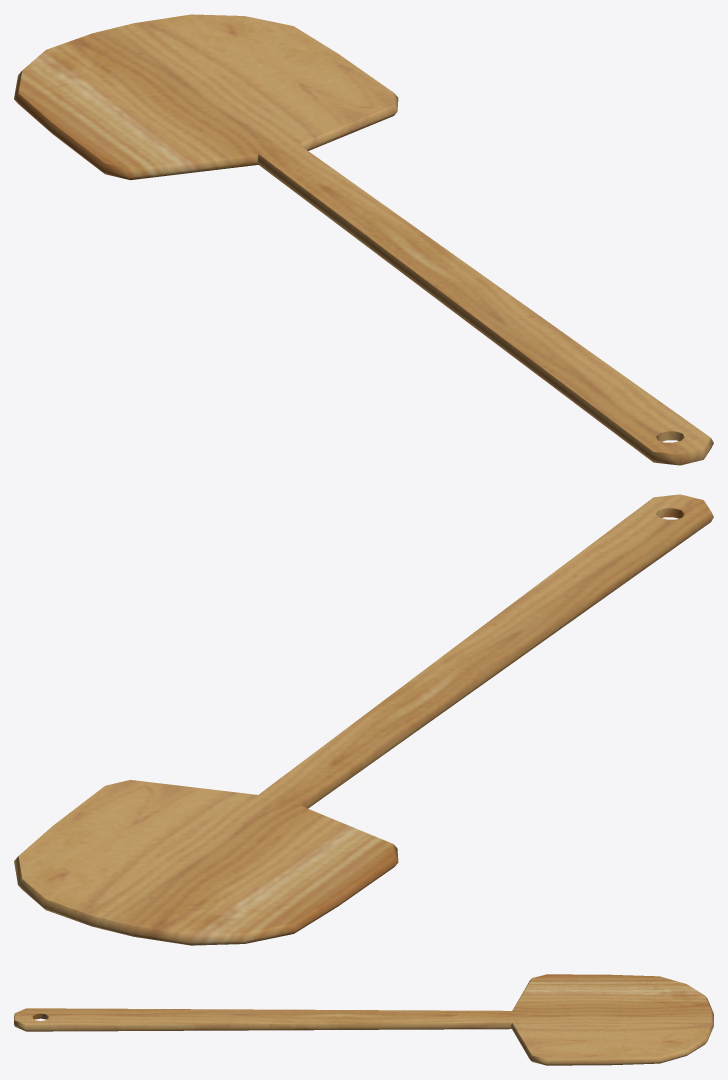
File: Peel.fbx
3 renders of one model, top to bottom at view 1: azimuth 30°, elevation 25°; view 2: azimuth 150°, elevation 25°; view 3: azimuth 270°, elevation 25°, orthographic. The views are drawn at different scales.
Visible parts, largest first — view 1: Peel; view 2: Peel; view 3: Peel.
Part boxes in pixels (bbox=[...]): Peel: bbox=[14, 14, 713, 465]; Peel: bbox=[14, 494, 713, 945]; Peel: bbox=[14, 974, 713, 1065].
Size of the model in its own units: 81.64 by 2.82 by 277.
